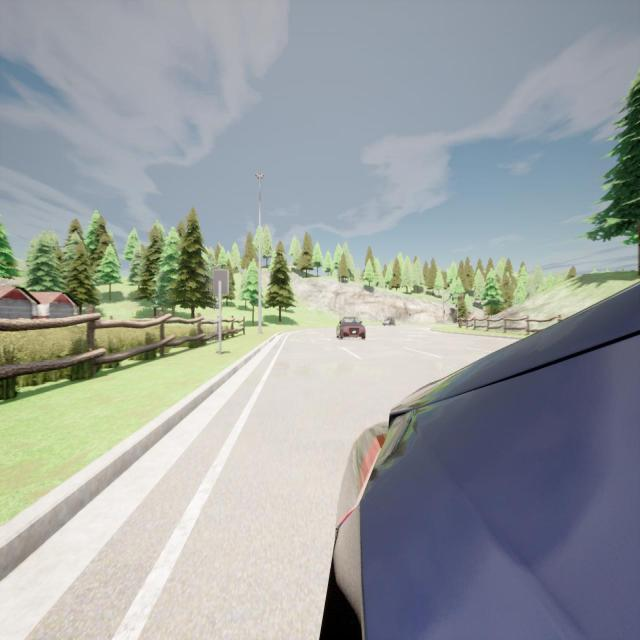Traffic_Signs: (213, 270, 229, 296)
Vehicle: (321, 283, 639, 638), (336, 316, 366, 341), (382, 317, 396, 326)
